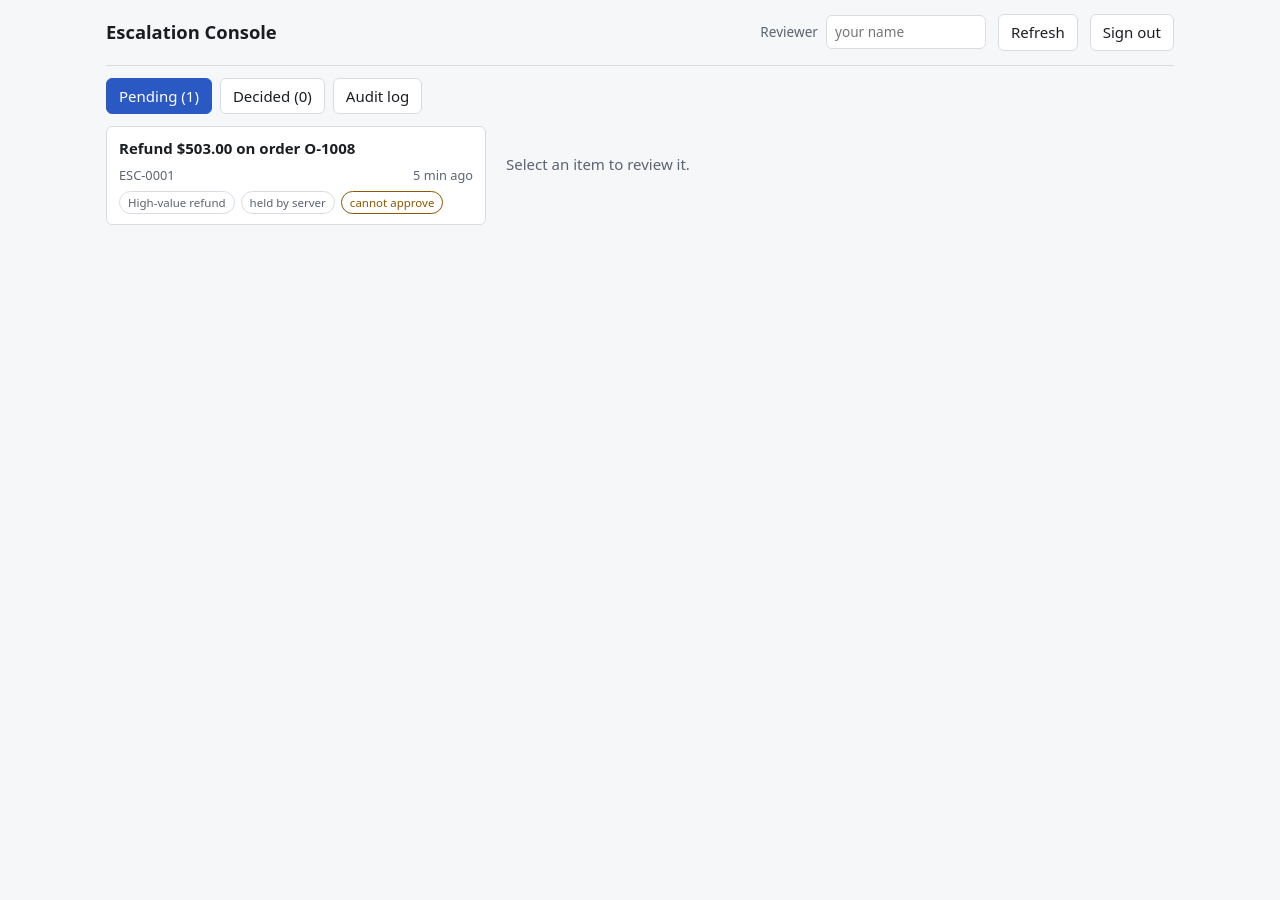
Scenario: Console › disables Approve for an action hard policy forbids, but still allows rejecting
In the field with placeholder "your name": (906, 32) [826, 15, 986, 49], type "arda"
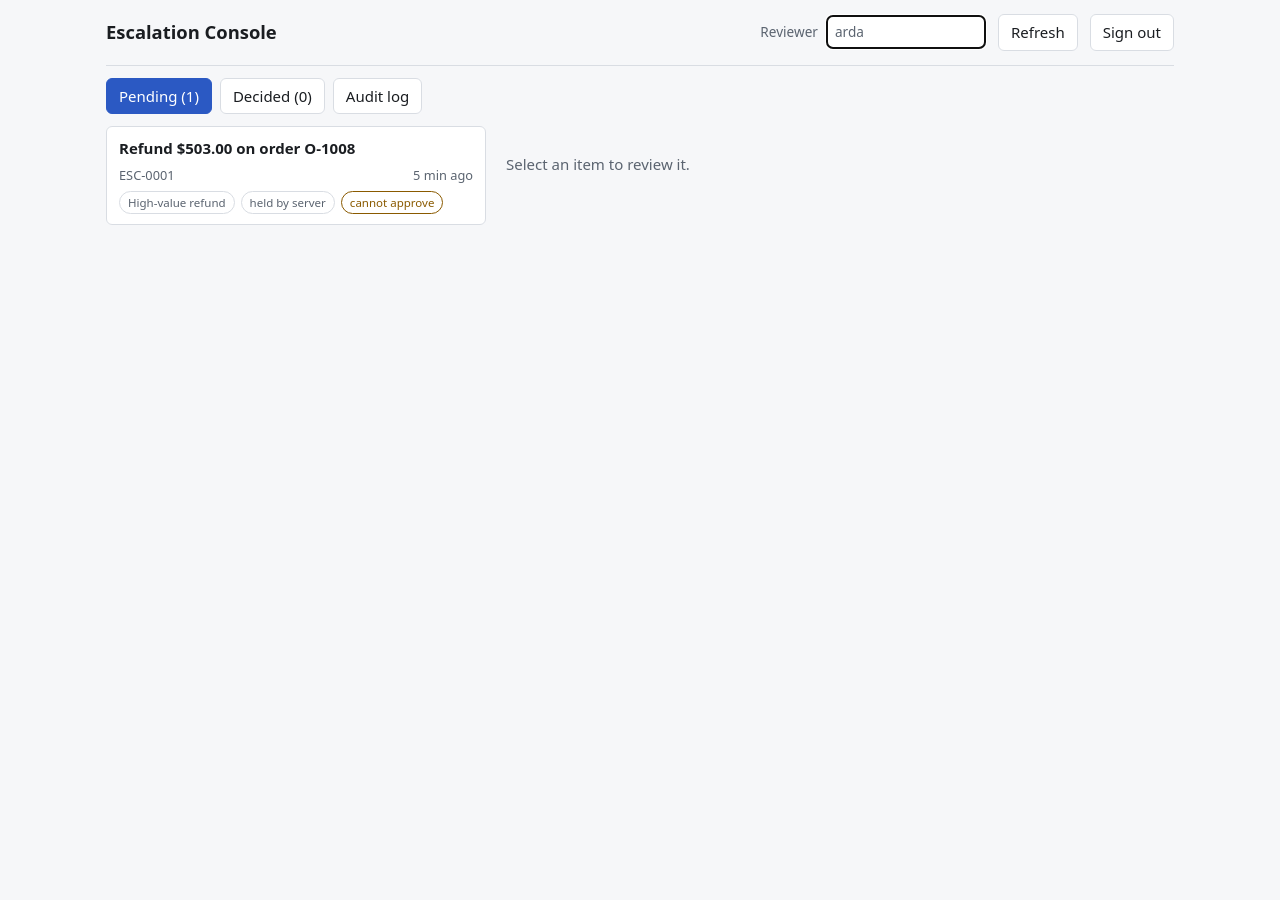
expect the text "cannot approve" is shown: met, box [341, 191, 444, 214]
Click the button "Refund": (237, 148) [106, 126, 486, 225]
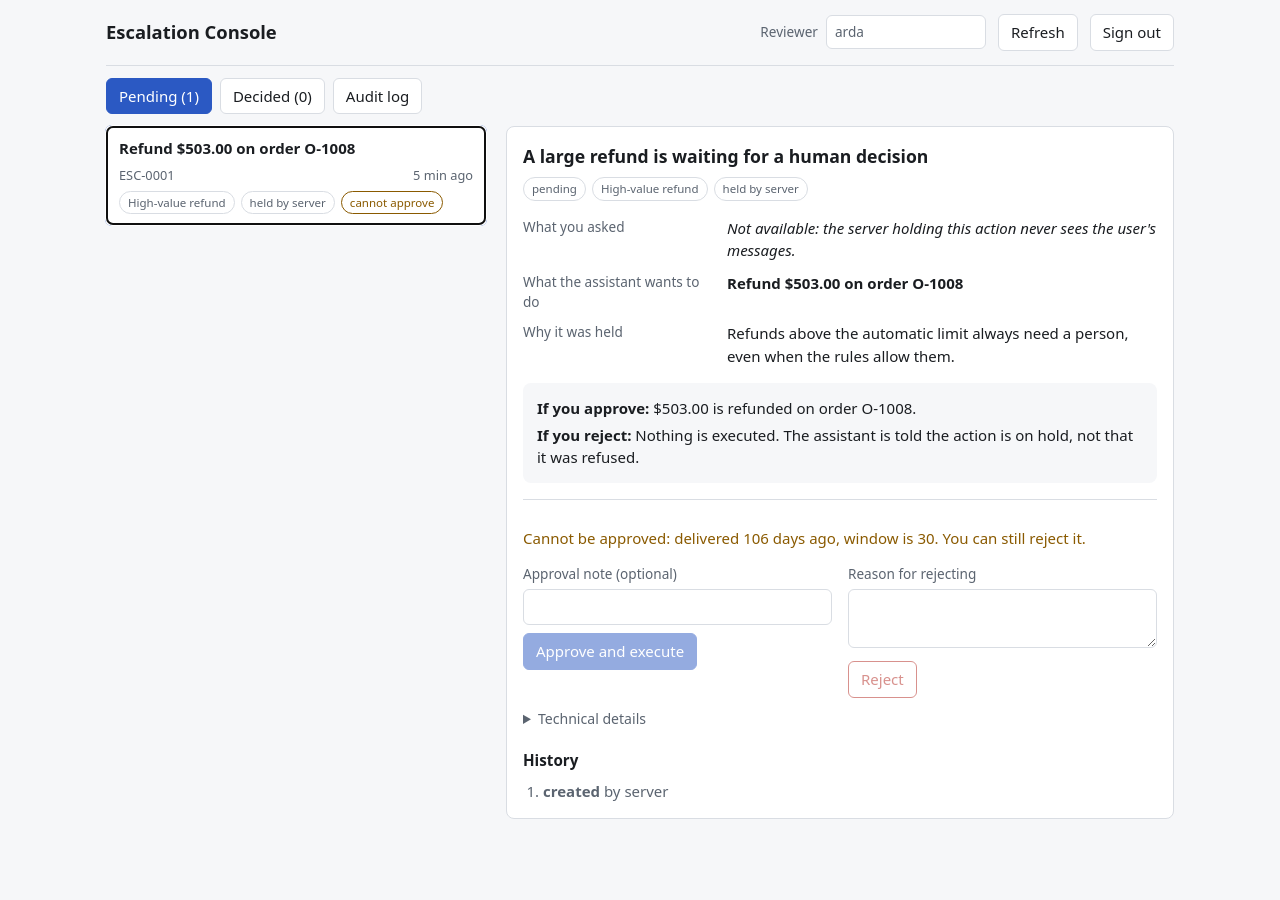
expect the text "delivered 106 days ago" is shown: met, box [674, 528, 935, 548]
expect the button "Approve and execute" is disabled: met, box [523, 633, 697, 670]
In the text box labelled "Reason for rejecting": (1002, 618) [848, 589, 1157, 648], type "too old"
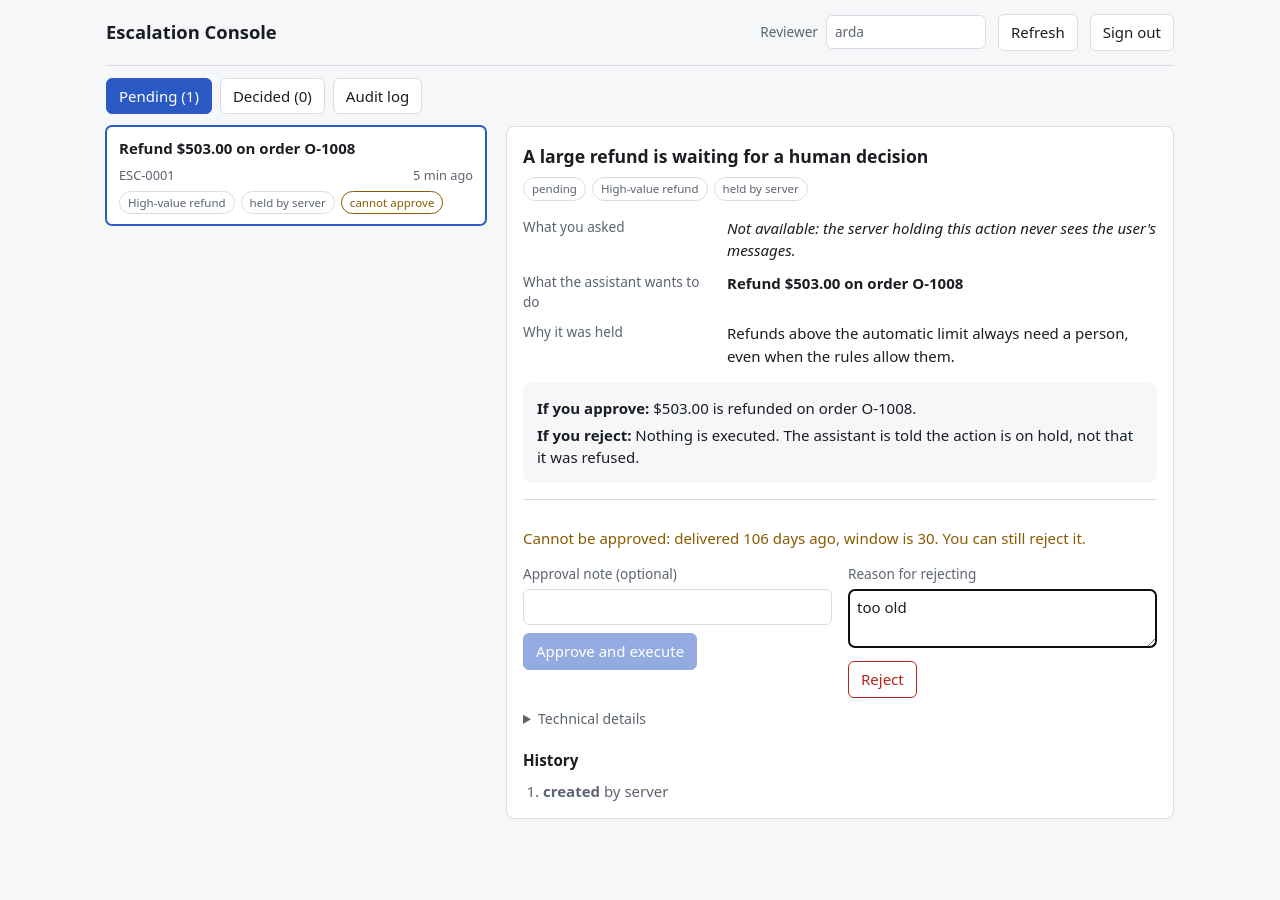
expect the button "Reject" is enabled: met, box [848, 661, 917, 698]
